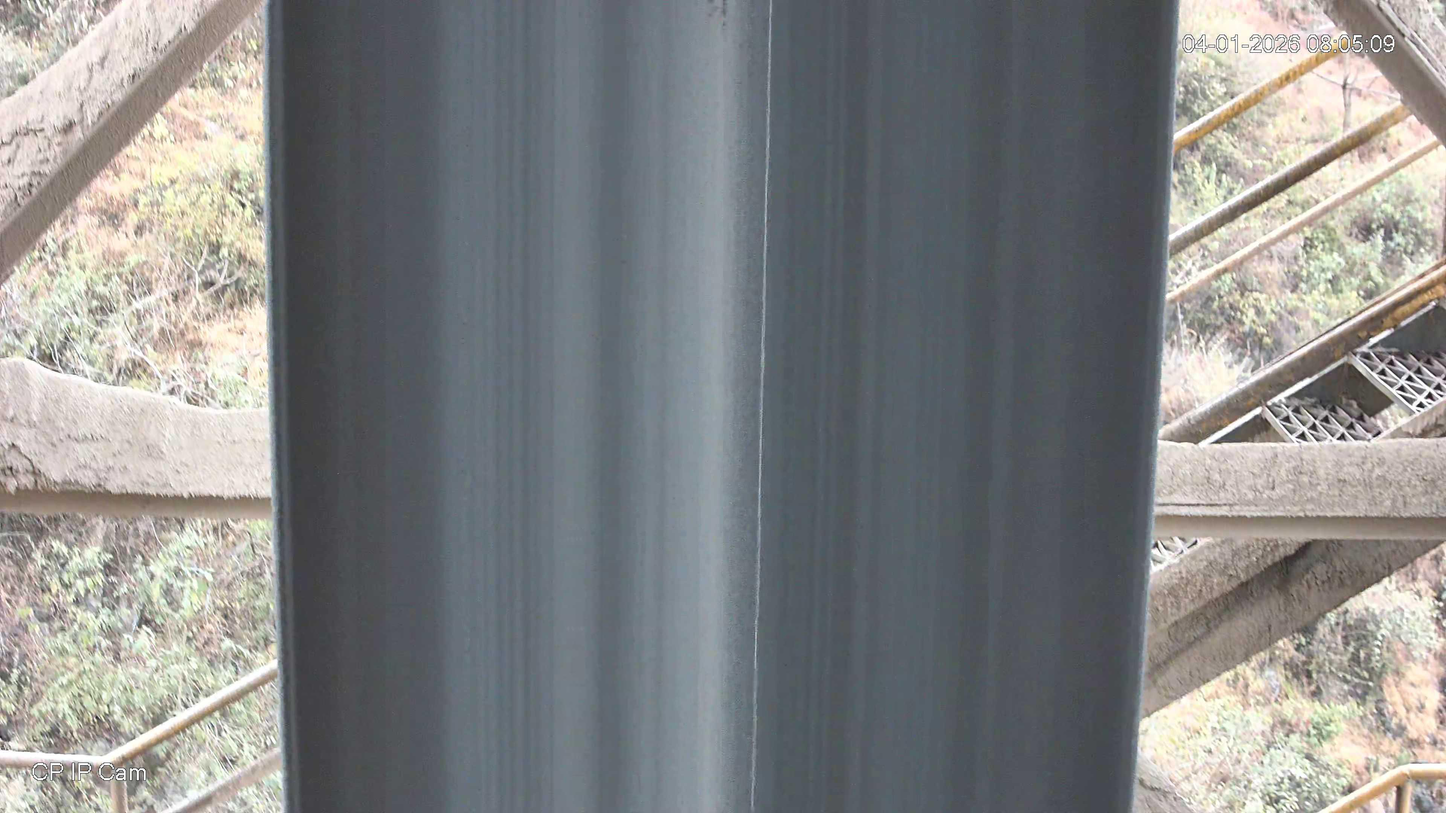belt_roi: (268, 1, 1180, 813)
